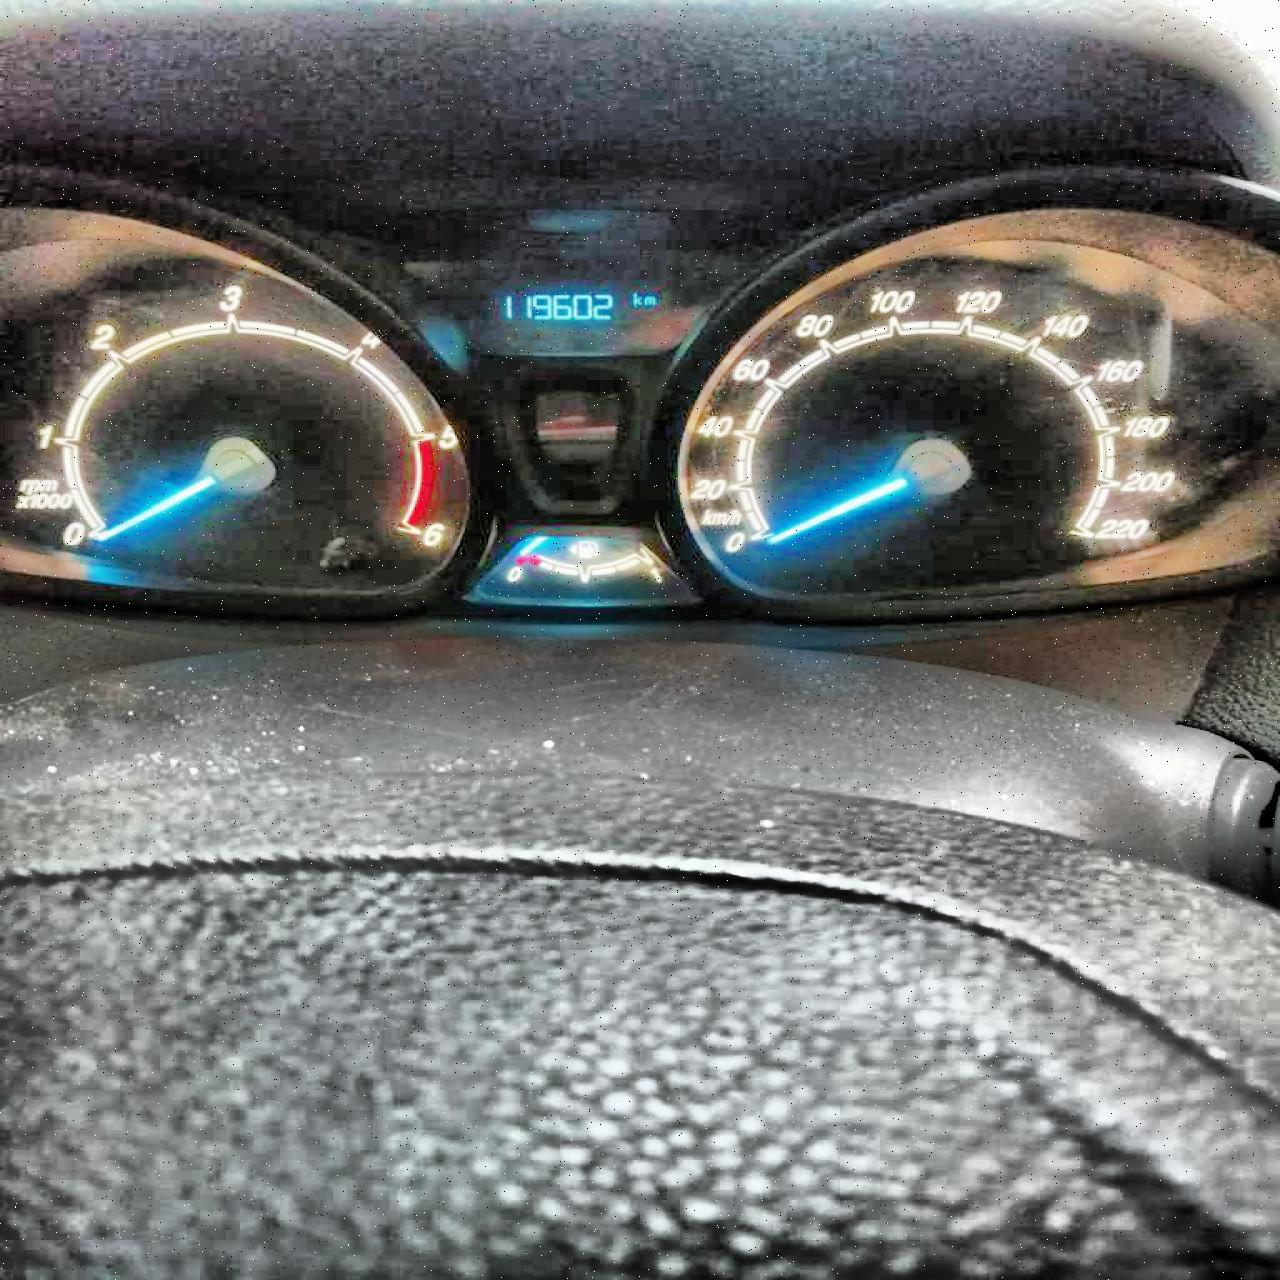0: (570, 293, 592, 319)
1: (499, 293, 513, 319), (518, 293, 530, 319)
2: (592, 293, 612, 319)
6: (550, 293, 570, 319)
9: (530, 293, 550, 319)
X: (631, 290, 641, 305), (641, 295, 655, 305)
odometer: (427, 274, 712, 360)
